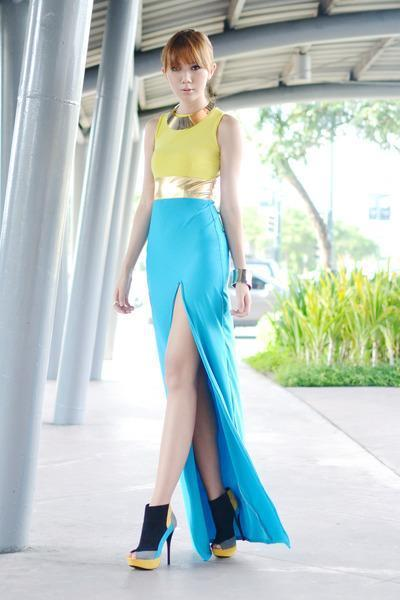shirt: (139, 108, 222, 198)
shoe: (137, 492, 245, 563)
skirt: (145, 198, 277, 560)
